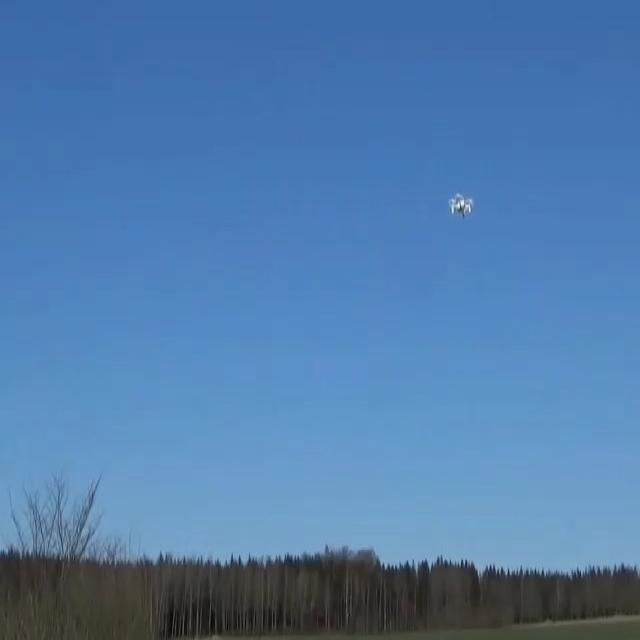drone: (449, 192, 473, 220)
